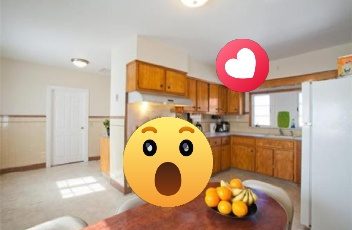love: (216, 39, 269, 92)
wow: (123, 117, 213, 207)
